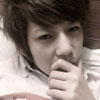face: (29, 8, 83, 75)
